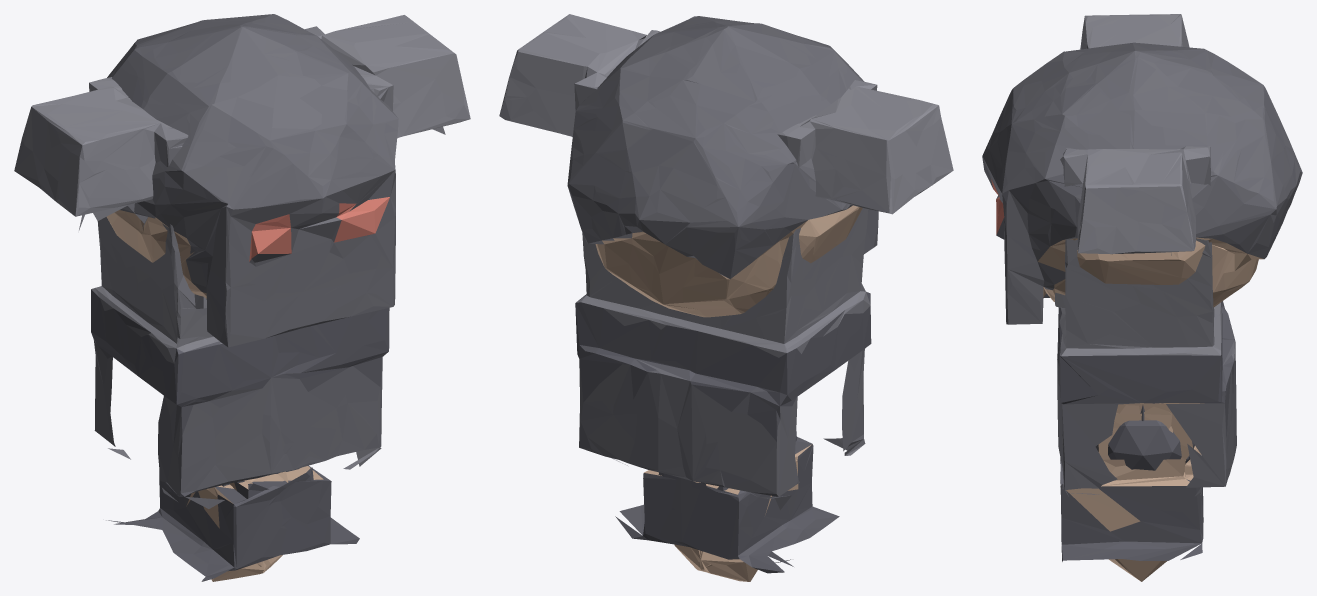
Rendered from brute.glb.
3 renders of one model, left to right at view 1: azimuth 30°, elevation 25°; view 2: azimuth 150°, elevation 25°; view 3: azimuth 270°, elevation 25°, orthographic. The views are drawn at different scales.
Parts seen in each view (by area): view 1: torso, head, legL_l, legR_l; view 2: torso, head, legL_l, legR_l, armL_l; view 3: head, torso, legR_l, legL_l, armR_u, legL_u, armR_l.
Boxes of the visible parts, x1,y1,x2,y2 form: torso: (14,15,470,508); head: (107,14,398,347); legL_l: (106,467,313,581); legR_l: (230,465,359,555); torso: (499,14,953,510); head: (567,16,878,317); legL_l: (658,437,839,573); legR_l: (615,431,796,546); armL_l: (691,547,757,581); head: (982,42,1302,324); torso: (1055,14,1236,496); legR_l: (1060,450,1203,561); legL_l: (1060,420,1203,530); armR_u: (1098,405,1172,456); legL_u: (1116,403,1193,459); armR_l: (1101,455,1166,581).
Bounding box in the file's own units: 1.09 × 1.45 × 0.8095.
